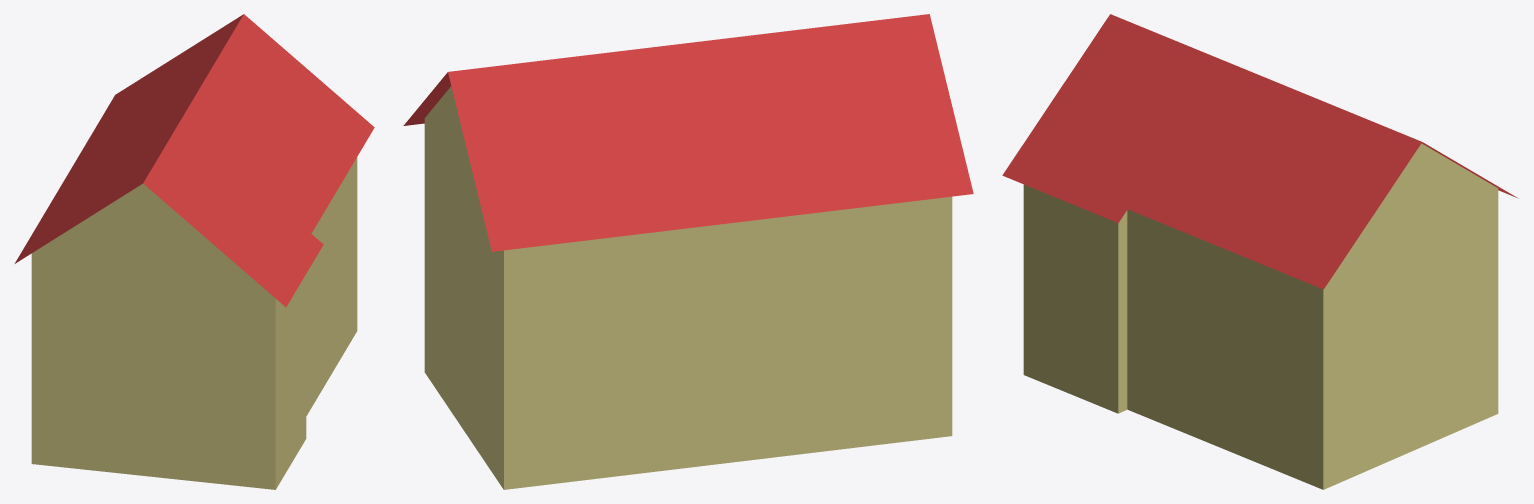
The picture shows the model from 3 angles, left to right: view 1: azimuth 30°, elevation 25°; view 2: azimuth 150°, elevation 25°; view 3: azimuth 270°, elevation 25°; orthographic projection. The views are drawn at different scales.
Bounding box in the file's own units: 16.79 × 17.21 × 11.52.
